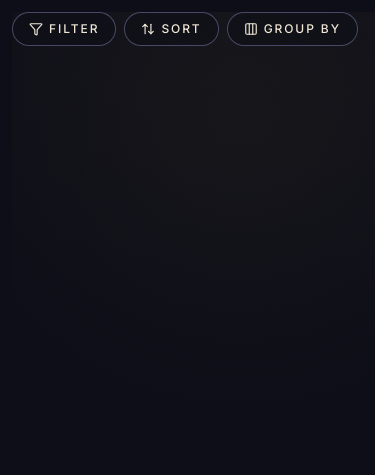
Test: BoardToolbar › closes filter panel when clicking Filter again (toggle)
Click the button "Filter": (64, 29) [12,12,116,46]
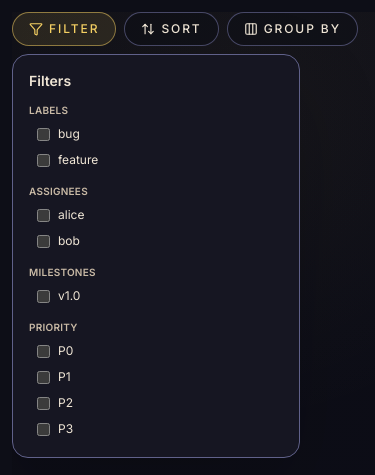
expect the text "bug" is shown: met, box [58,126,80,142]
Click the button "Filter": (64, 29) [12,12,116,46]
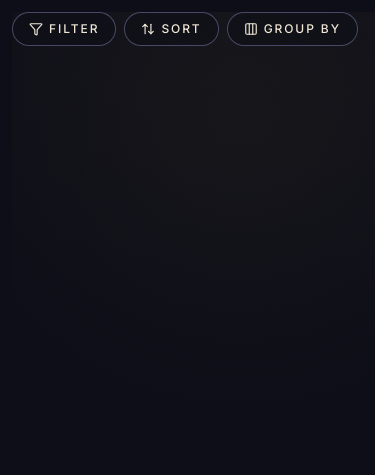
expect the text "bug" is gone: met
